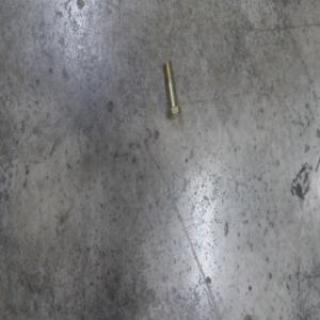Bolttrack_idkeyframe: (162, 59, 181, 120)
